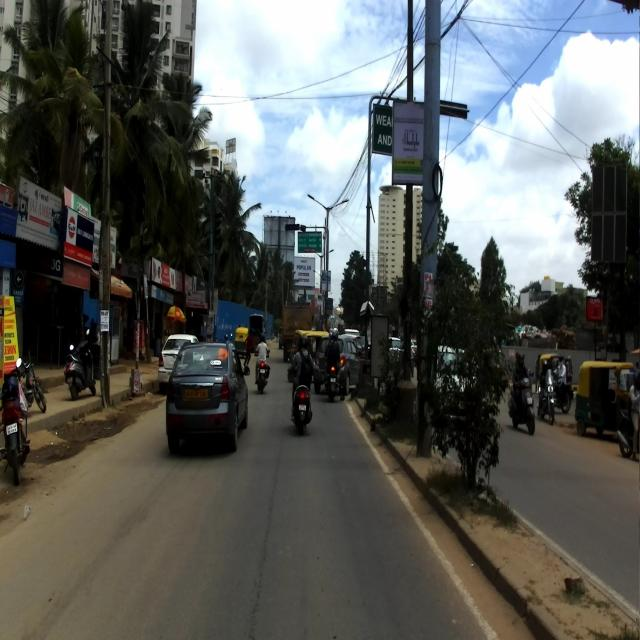Car_Mahindra: (165, 339, 249, 460)
autorickshaw: (574, 359, 640, 440)
motorcycle_Hero: (0, 355, 31, 487)
motorcycle_TVS: (16, 349, 48, 414)
scooter: (63, 327, 97, 400), (286, 352, 314, 436), (506, 375, 535, 436)
